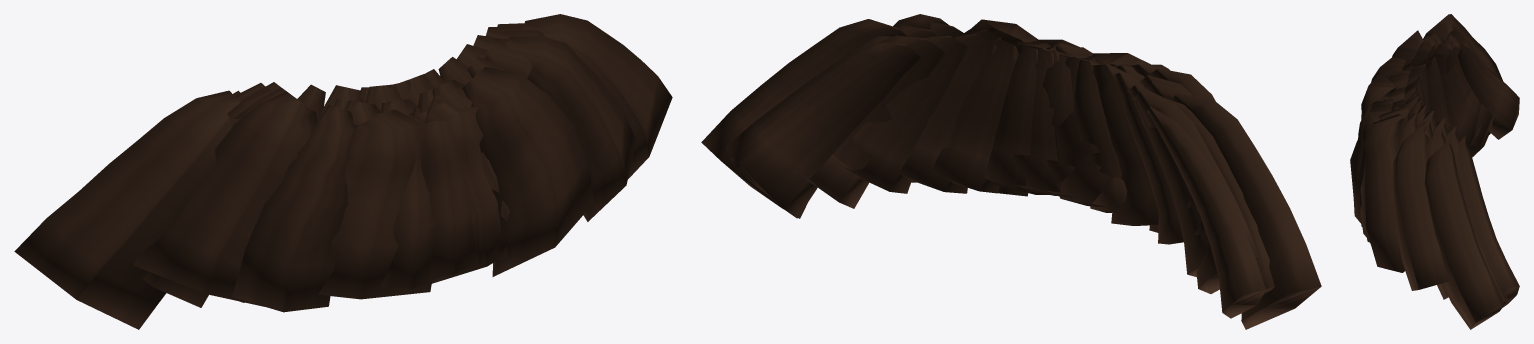
File: vincentt-mustache-lampshade.glb
3 views of the same model, side by side, from view 1: azimuth 30°, elevation 25°; view 2: azimuth 150°, elevation 25°; view 3: azimuth 270°, elevation 25° (orthographic). The views are drawn at different scales.
Parts seen in each view (by area): view 1: mustache_lampshade_clumps; view 2: mustache_lampshade_clumps; view 3: mustache_lampshade_clumps.
Boxes of the visible parts, x1,y1,x2,y2 form: mustache_lampshade_clumps: [14, 14, 672, 329]; mustache_lampshade_clumps: [701, 14, 1321, 329]; mustache_lampshade_clumps: [1350, 14, 1519, 329].
Size of what is drawn, in the model's own units: 0.065 by 0.0216 by 0.0196.
2 materials, 2 textured.
